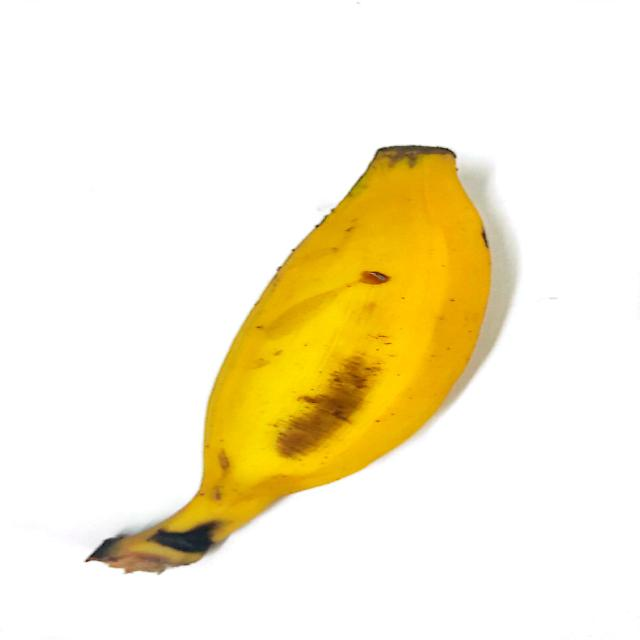fresh_banana: (188, 154, 488, 523)
